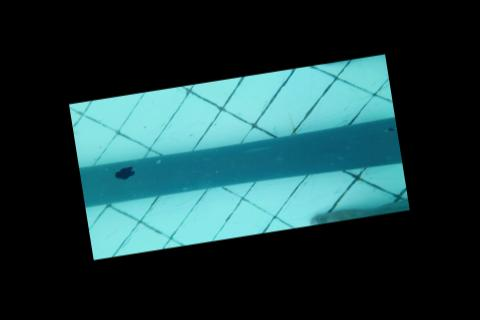kebocoran: (110, 164, 137, 180)
